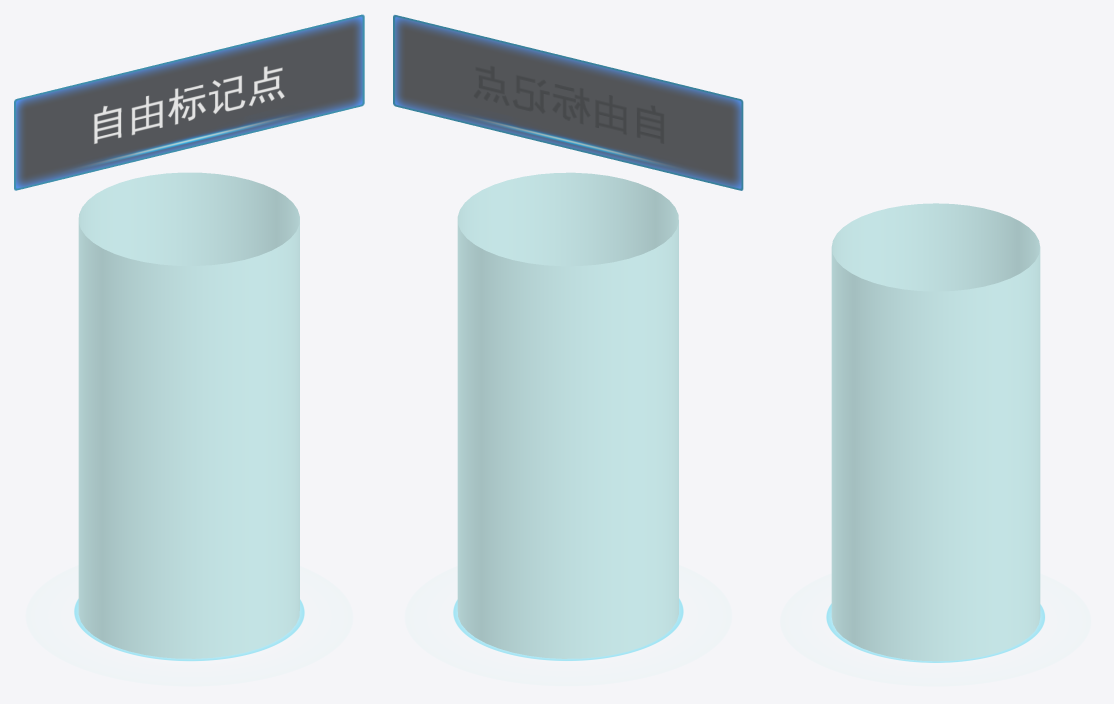
File: SM_POI_Diamond.glb
3 renders of one model, left to right at view 1: azimuth 30°, elevation 25°; view 2: azimuth 150°, elevation 25°; view 3: azimuth 270°, elevation 25°, orthographic. The views are drawn at different scales.
Visible parts, largest first — view 1: Poly_Lighting, Poly_UI_Box, Poly_Round_Wave, Poly_Text, Poly_Round_Center; view 2: Poly_Lighting, Poly_UI_Box, Poly_Round_Wave, Poly_Text, Poly_Round_Center; view 3: Poly_Lighting, Poly_Round_Wave, Poly_Round_Center.
Boxes of the visible parts, bbox=[...] form: Poly_Lighting: bbox=[78, 172, 299, 658]; Poly_UI_Box: bbox=[14, 14, 364, 190]; Poly_Round_Wave: bbox=[26, 565, 352, 686]; Poly_Text: bbox=[94, 66, 284, 143]; Poly_Round_Center: bbox=[74, 598, 304, 661]; Poly_Lighting: bbox=[457, 172, 678, 658]; Poly_UI_Box: bbox=[393, 15, 743, 190]; Poly_Round_Wave: bbox=[405, 565, 731, 685]; Poly_Text: bbox=[474, 66, 663, 143]; Poly_Round_Center: bbox=[453, 598, 683, 660]; Poly_Lighting: bbox=[831, 203, 1040, 661]; Poly_Round_Wave: bbox=[780, 574, 1090, 686]; Poly_Round_Center: bbox=[826, 603, 1044, 662].
Size of the model in its own units: 1.6 by 2.44 by 1.38.
Materials: 7 (6 with a texture image).
